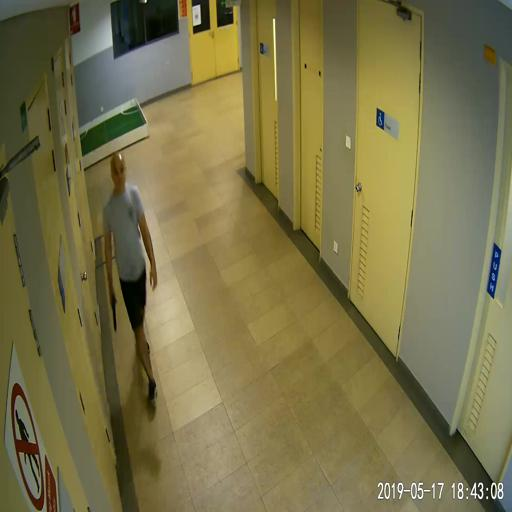pistol: (109, 292, 116, 332)
